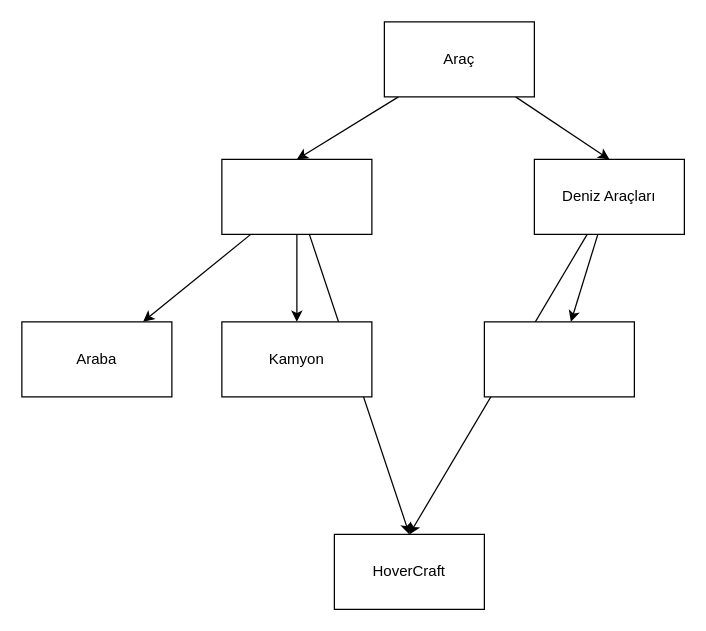
Some shapes in this 706 by 631 pixel diagram are drawn without their labels. The shapes that lost their labels are listed below. From the top down, each one's centre as x and y in pixels, then its label:
At [296,196]: "Kara Araçları".
At [558,359]: "Yat".
